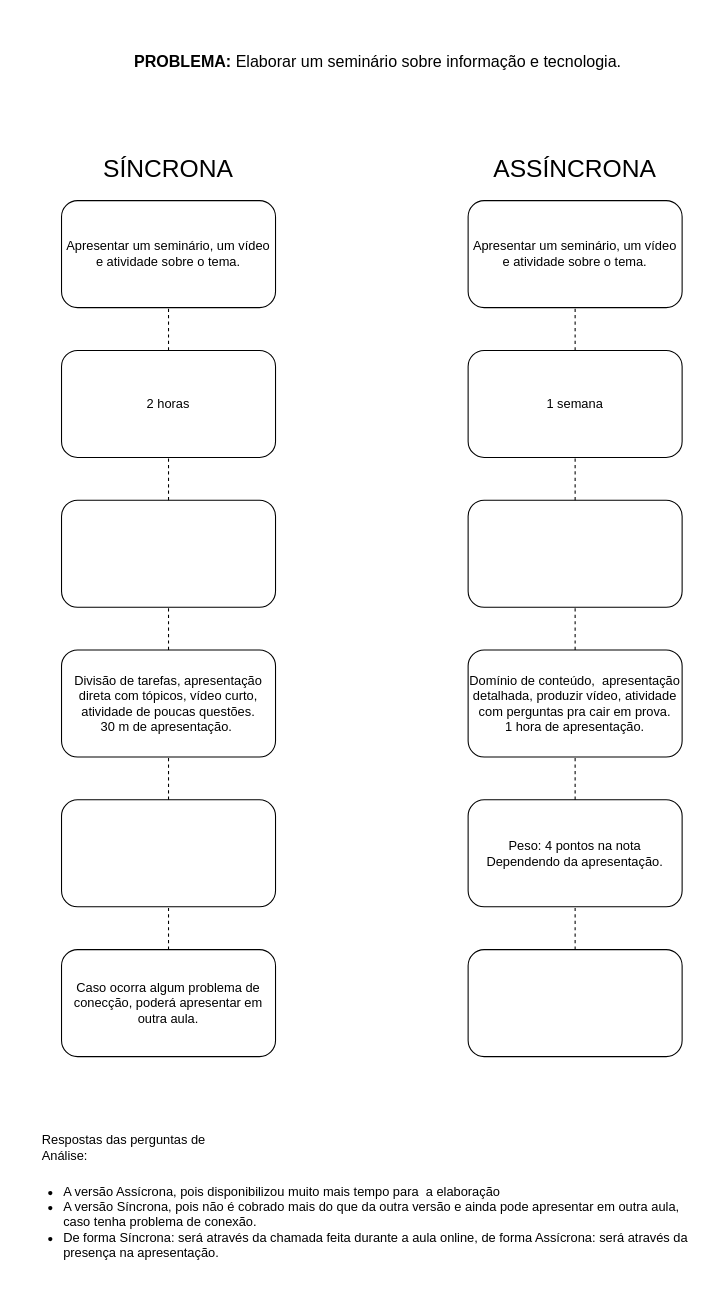
This 721x1299 diagram has some shape labels left out. The centre of each missing label's shape, as x and y in pixels:
Caso não seja feito alguma etapa, será reduzido a nota.: the point at 574,1003
Peso: 2,5 na nota Caso feito completo.: the point at 168,853
Sala de Aula: the point at 574,553
Vídeo Aula: the point at 168,553
